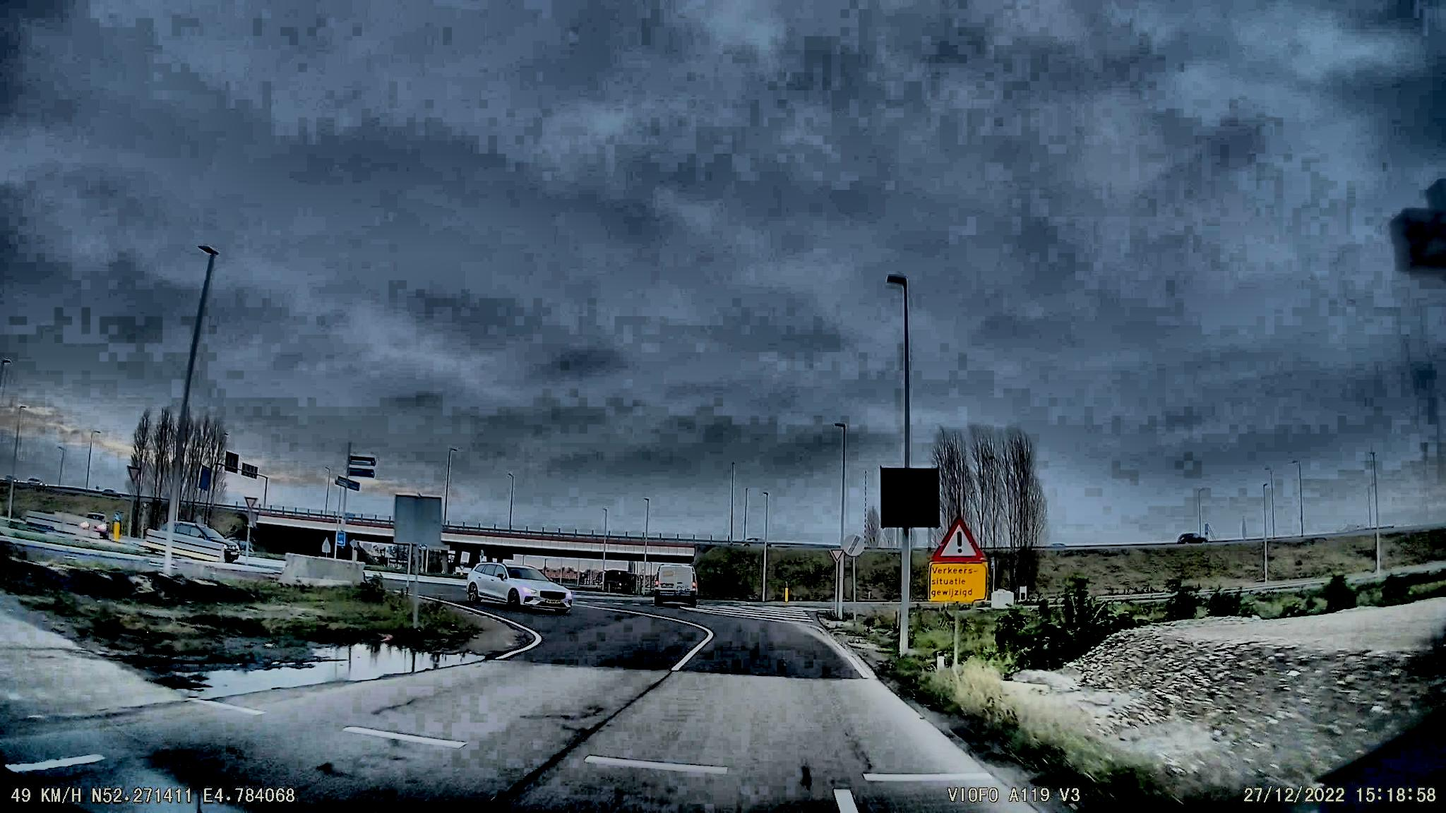Roads: (0, 609, 1069, 813)
